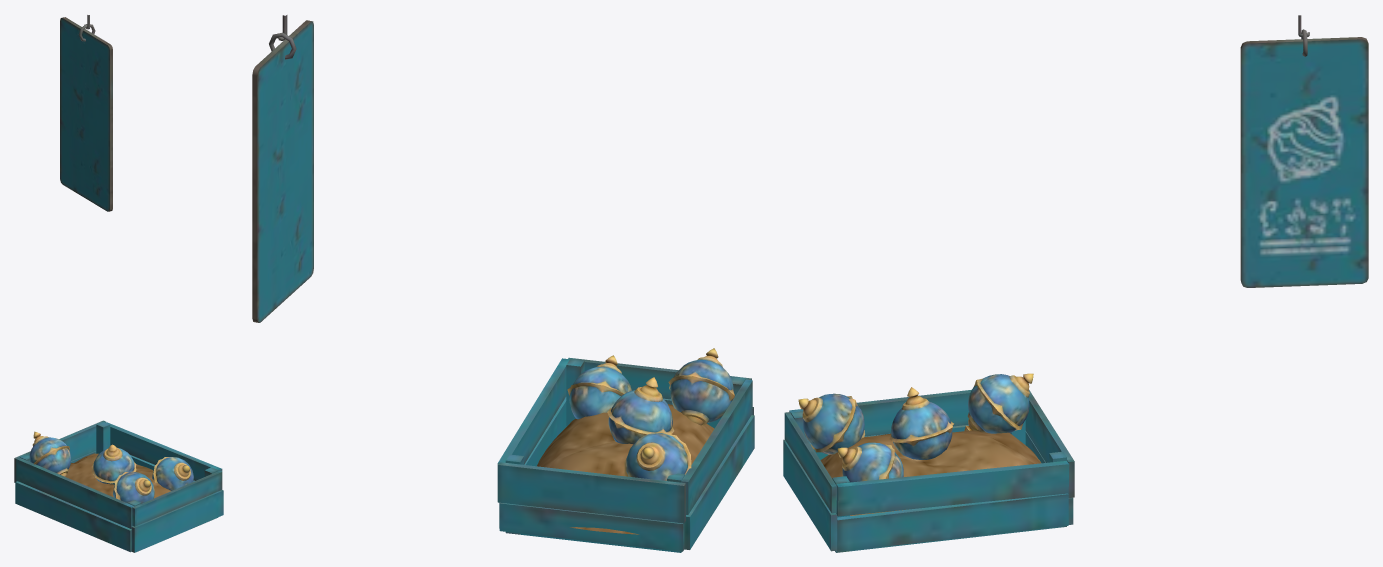
Rendered from SM_MarketProp_PalSphere_86f4a2.glb.
The picture shows the model from 3 angles, left to right: view 1: azimuth 30°, elevation 25°; view 2: azimuth 150°, elevation 25°; view 3: azimuth 270°, elevation 25°; orthographic projection. The views are drawn at different scales.
Size of the model in its own units: 0.9715 by 1.99 by 1.89.
Materials: 2 (2 with a texture image).
